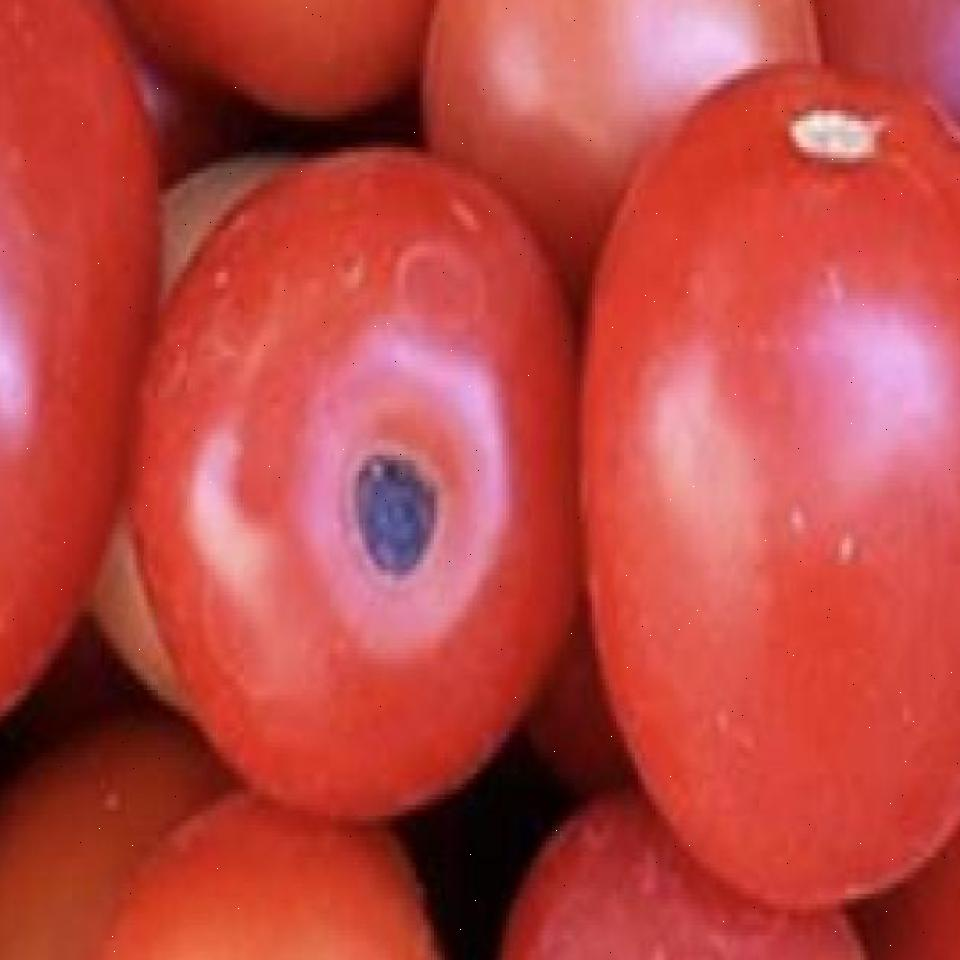Blossom_end_rot: (334, 433, 452, 582)
